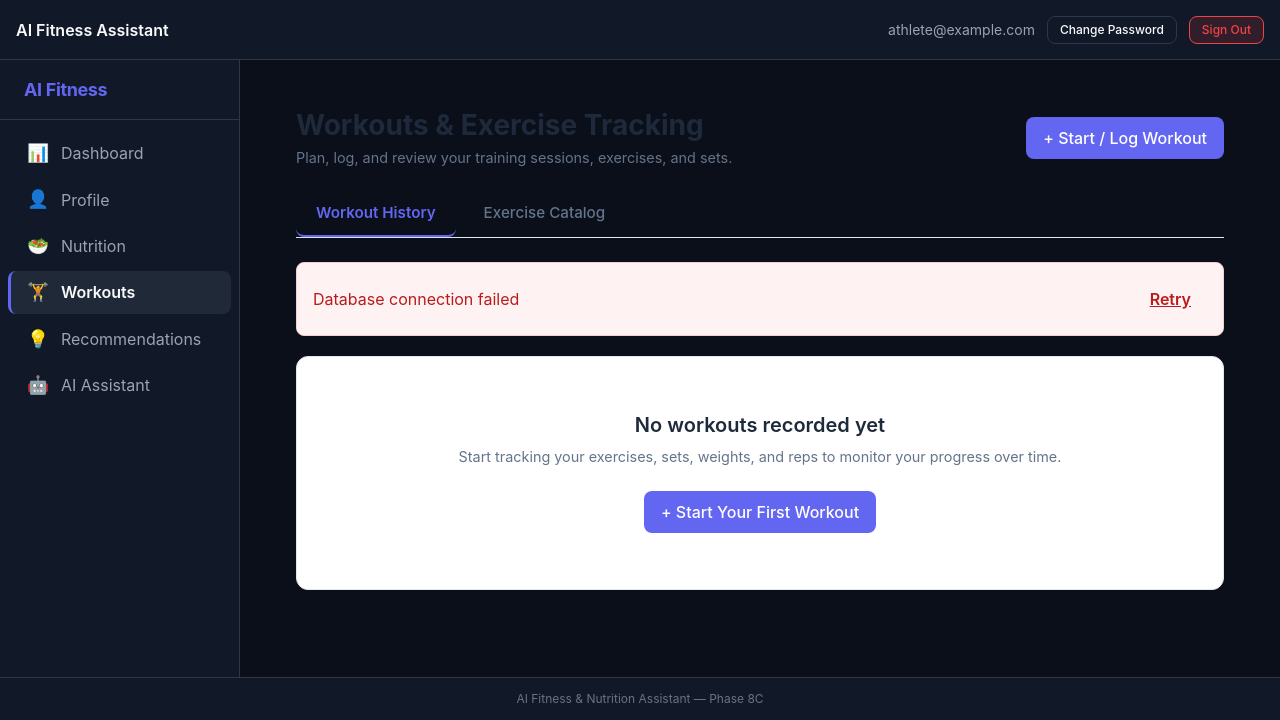
Test: Phase 8F — Workouts & Exercise Tracking Tests › 7. workout list error displays alert with retry option
Expected: the heading "Workouts & Exercise Tracking" is shown, left=296, top=108, right=732, bottom=143
Expected: the message shows "Database connection failed", left=313, top=289, right=519, bottom=309
Click Retry
Click the button "Retry" at (1170, 299), box left=1134, top=279, right=1207, bottom=319
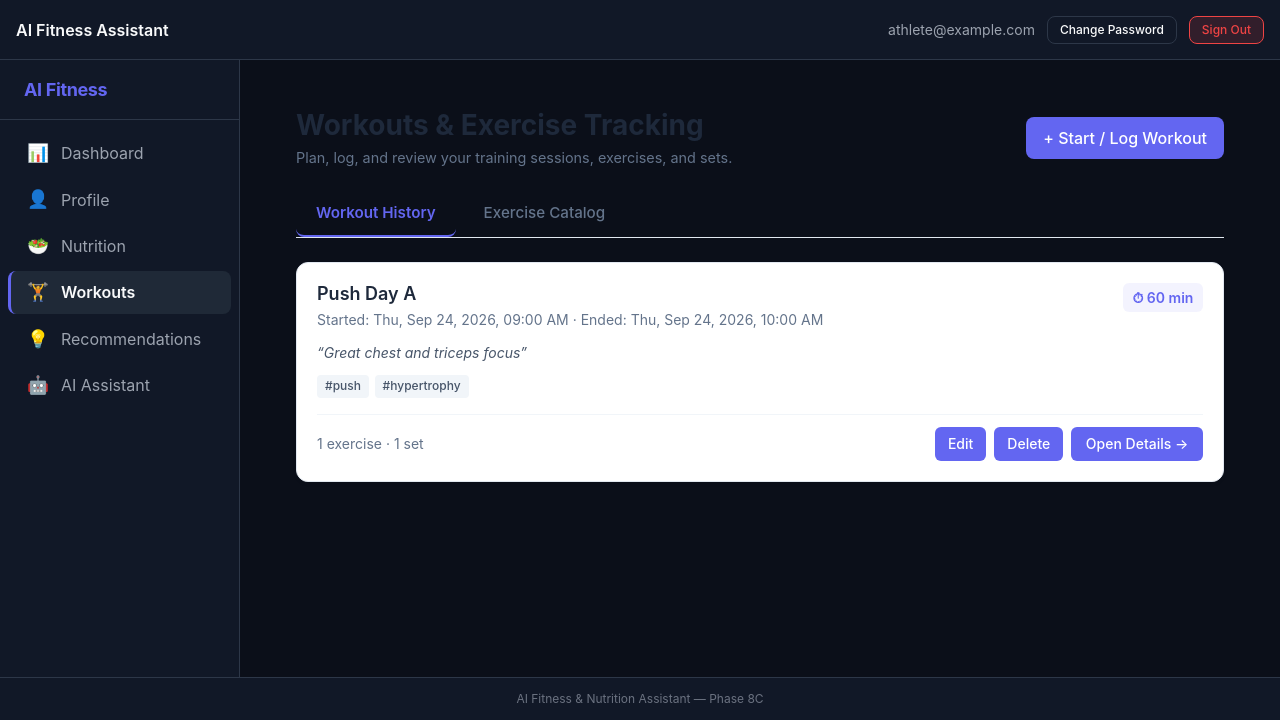
Now the heading "Push Day A" is shown, box left=317, top=283, right=416, bottom=305
